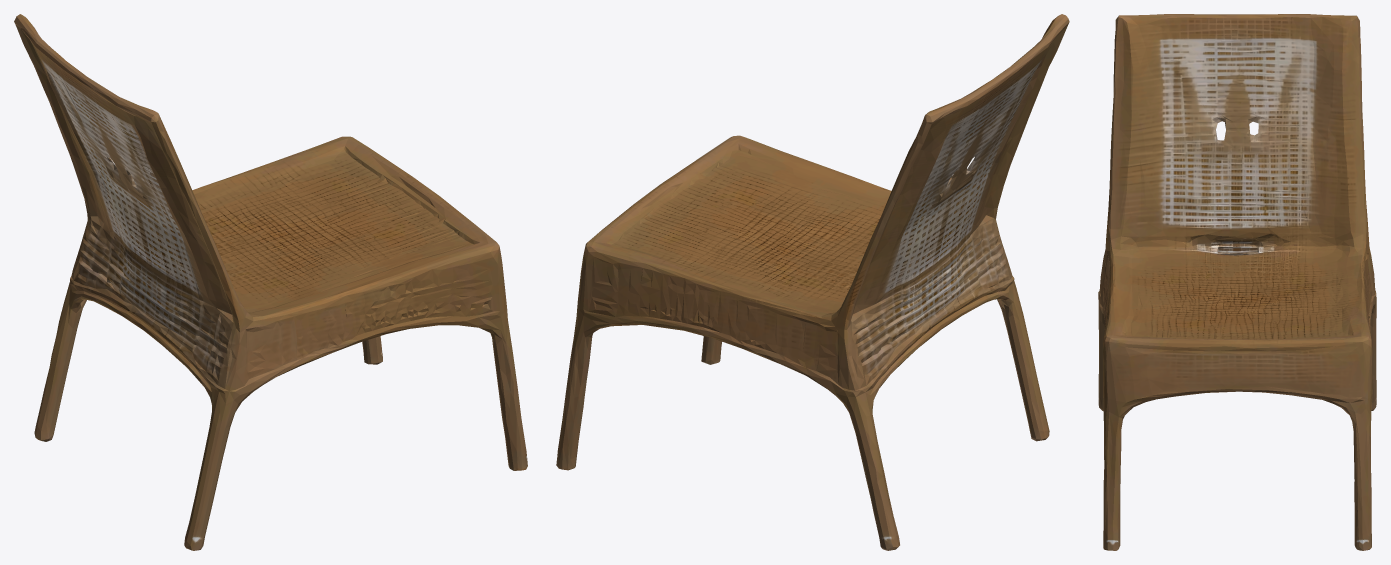
Rendered from dining_chair_9.obj.
The picture shows the model from 3 angles, left to right: view 1: azimuth 30°, elevation 25°; view 2: azimuth 150°, elevation 25°; view 3: azimuth 270°, elevation 25°; orthographic projection. The views are drawn at different scales.
Size of the model in its own units: 0.8417 by 0.925 by 0.6127.
Materials: 1 (1 with a texture image).
